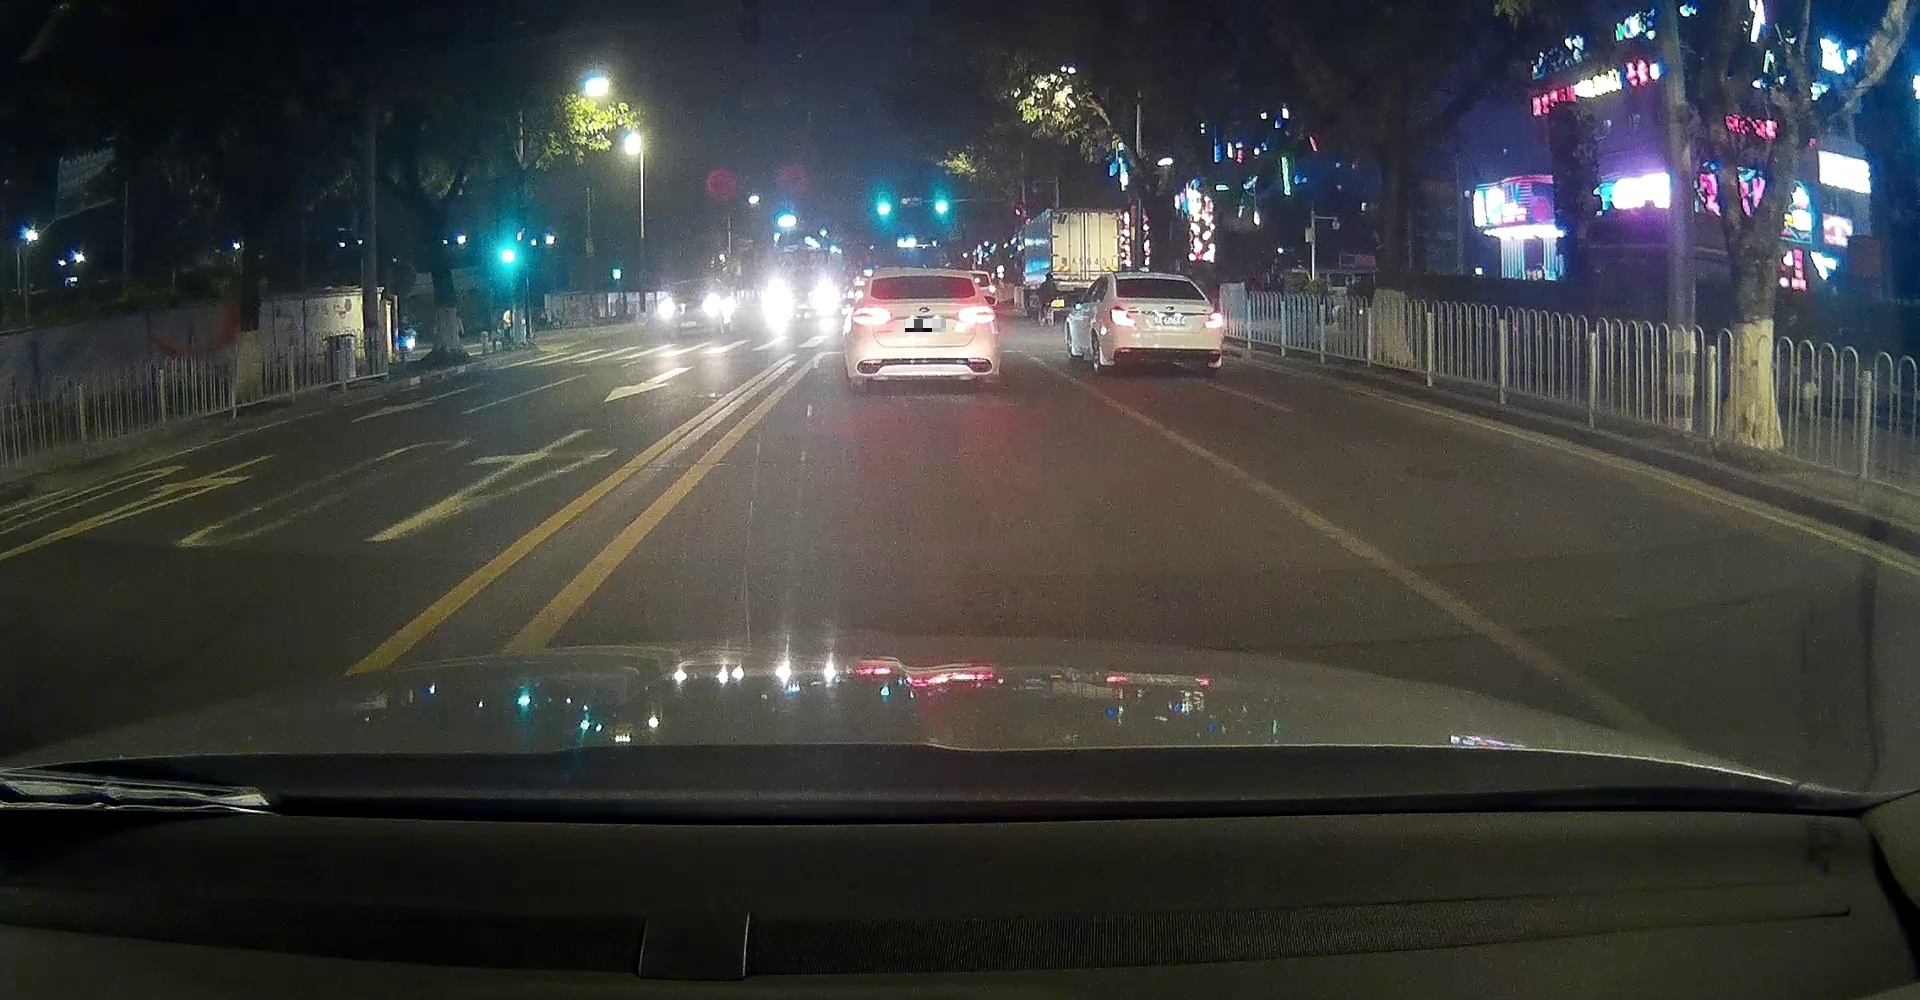L_light: (852, 307, 891, 326), (1109, 306, 1135, 327)
R_light: (957, 306, 996, 324), (1203, 310, 1223, 327)
T_light: (912, 275, 938, 280), (1150, 279, 1168, 284)
night-no: (850, 269, 1001, 390), (1109, 272, 1223, 374)
plate_1: (905, 319, 946, 332)
